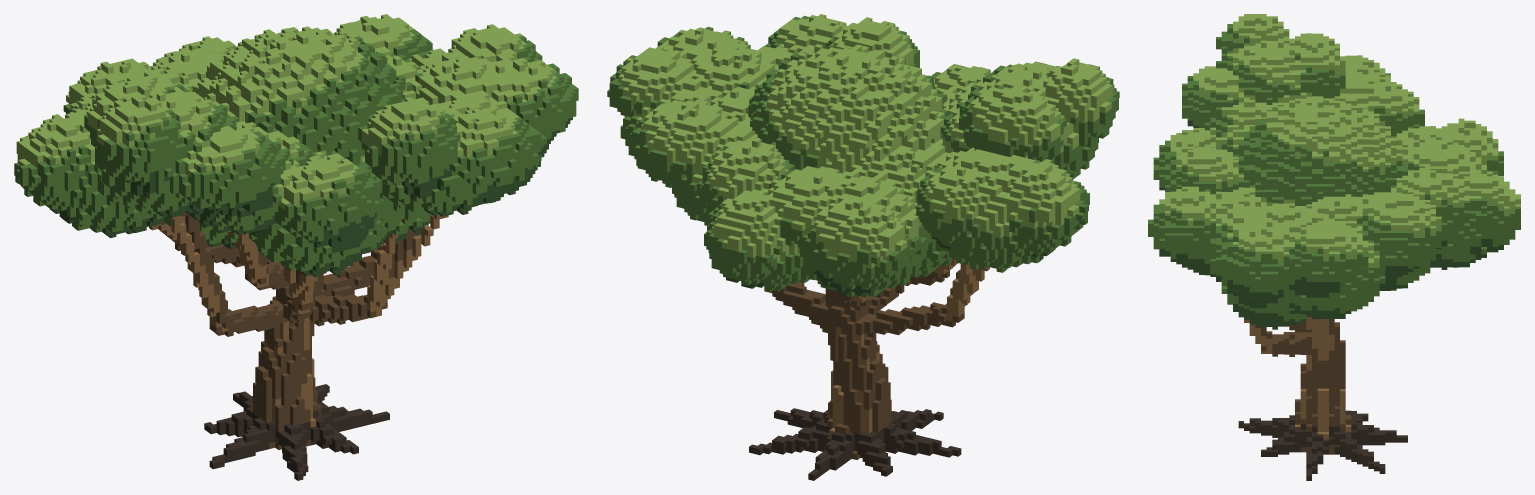
File: ancient_oak_v2_near.glb
The picture shows the model from 3 angles, left to right: view 1: azimuth 30°, elevation 25°; view 2: azimuth 150°, elevation 25°; view 3: azimuth 270°, elevation 25°; orthographic projection. The views are drawn at different scales.
Parts seen in each view (by area): view 1: ancient_oak_v2_near; view 2: ancient_oak_v2_near; view 3: ancient_oak_v2_near.
Part boxes in pixels (x1,y1,x2,y2): ancient_oak_v2_near: (14,14,578,480); ancient_oak_v2_near: (607,14,1119,480); ancient_oak_v2_near: (1148,14,1520,480).
Bounding box in the file's own units: 10.88 × 8.5 × 8.25.
Materials: 1 (1 with a texture image).
